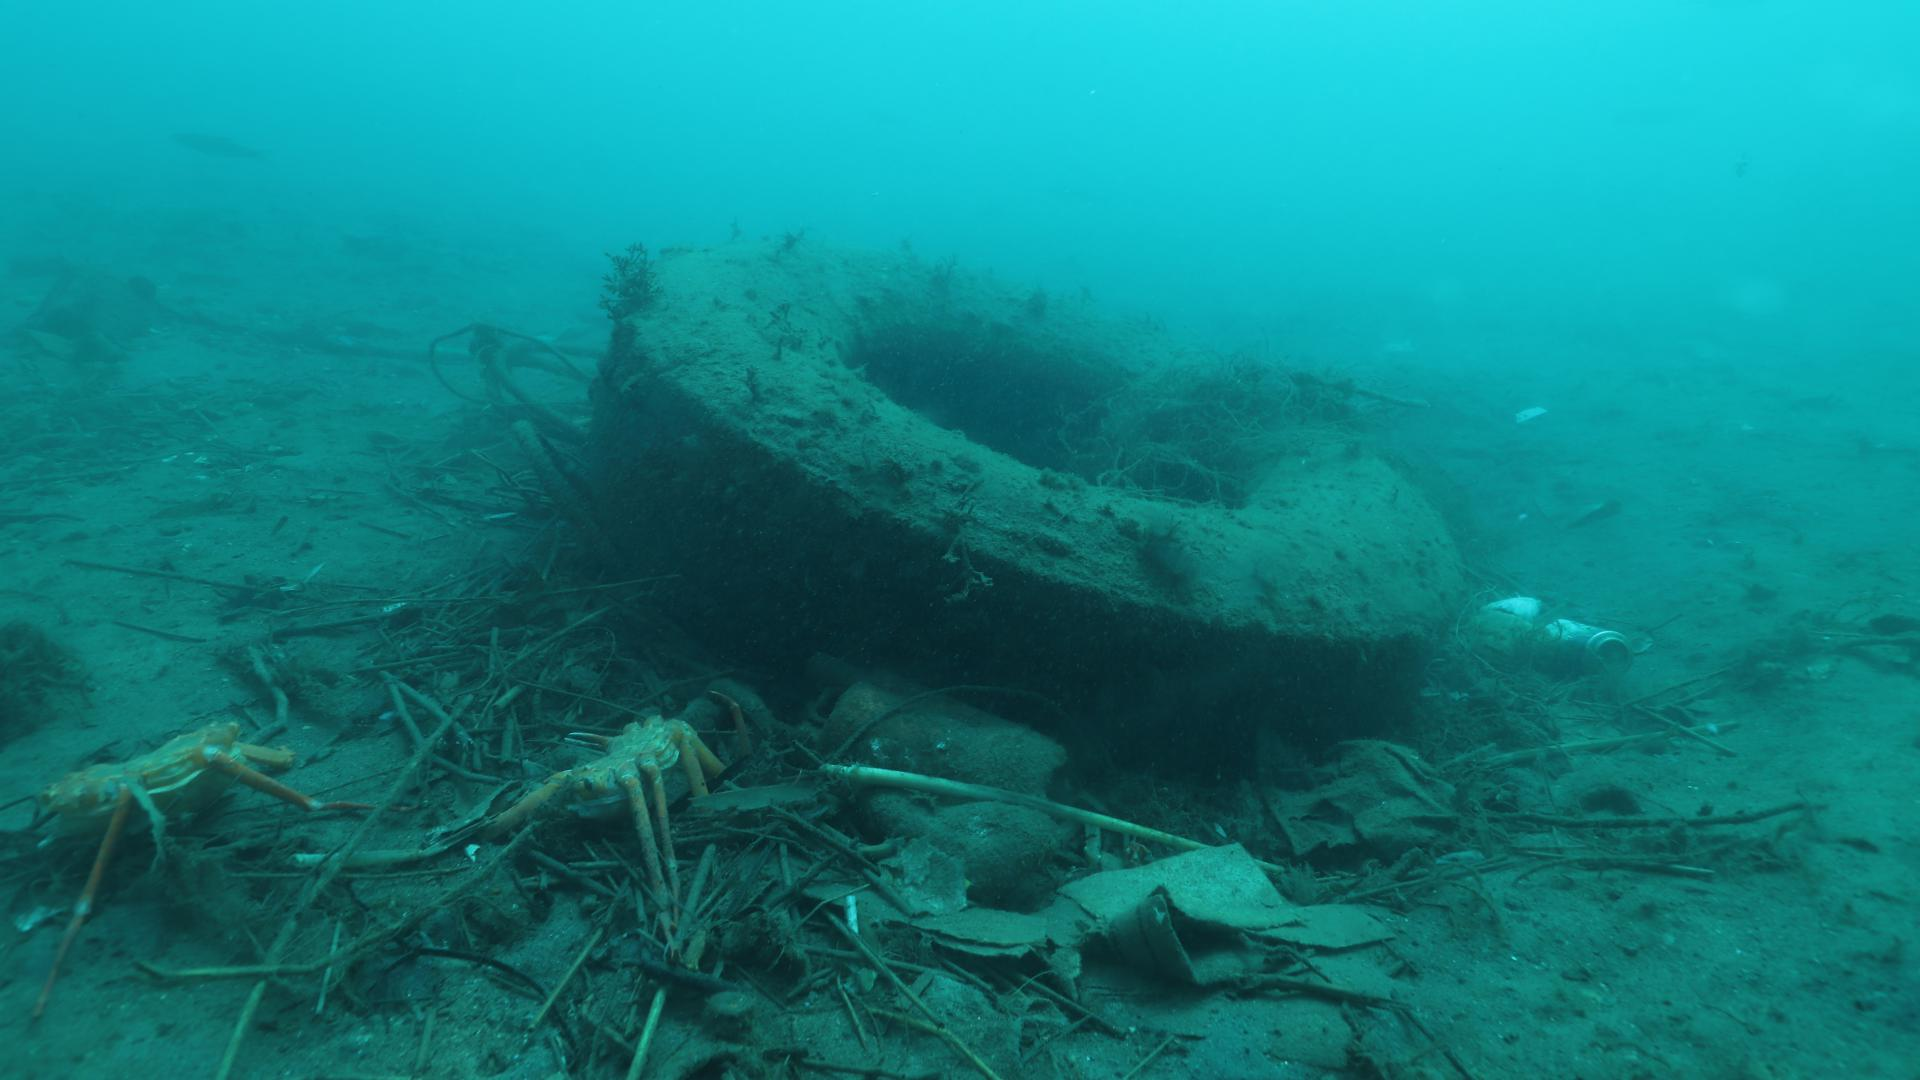tire: (589, 233, 1464, 778)
